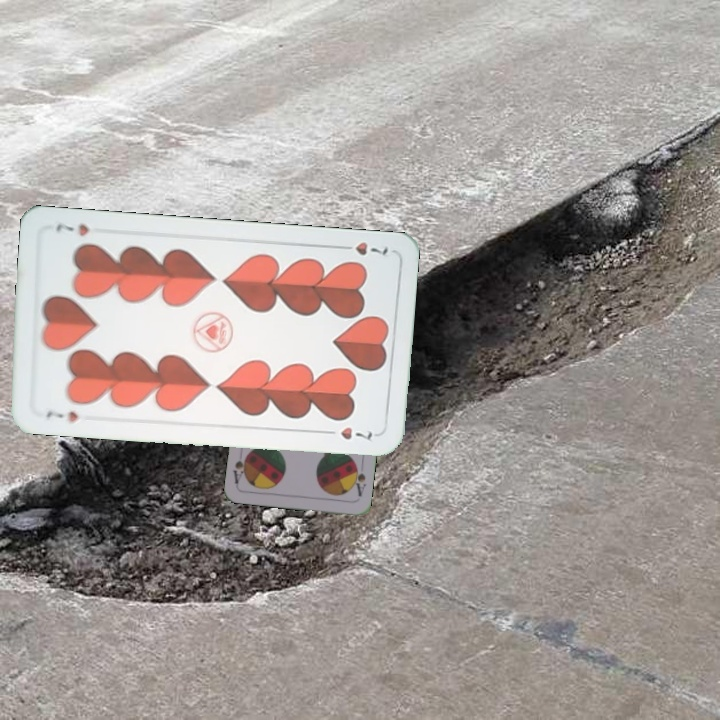H7: (334, 237, 391, 259), (42, 407, 81, 425)
SA: (348, 460, 369, 499)
